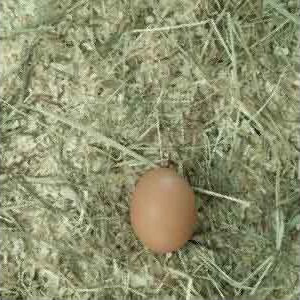egg: (129, 166, 197, 252)
